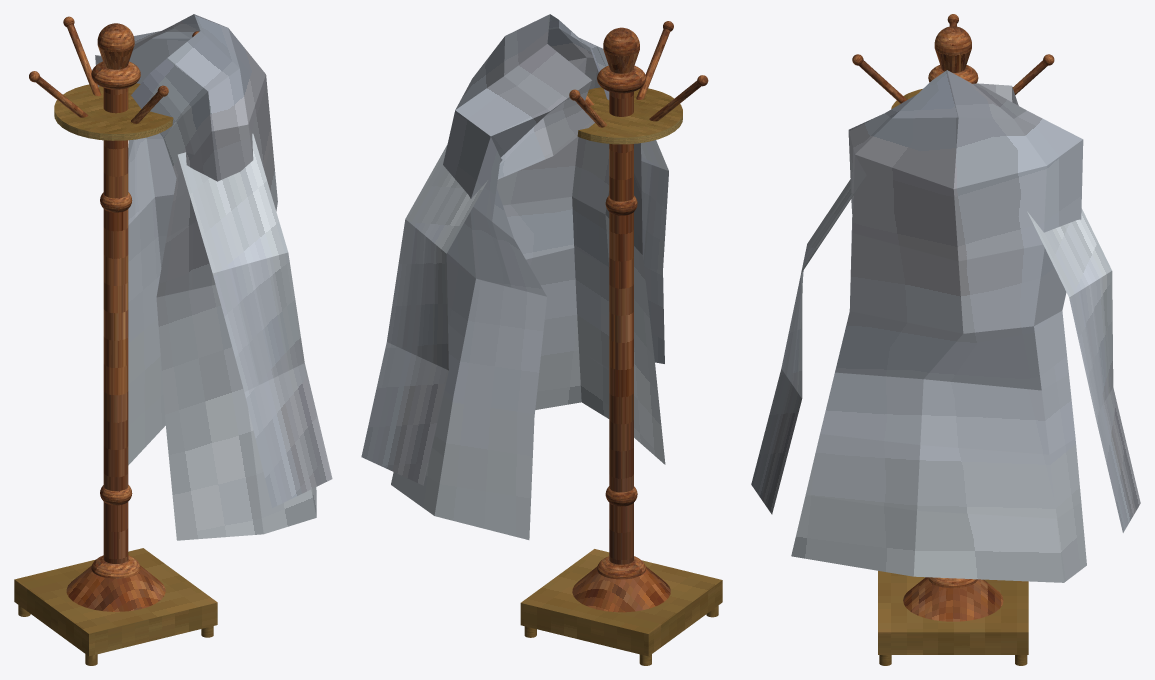
Rendered from coat_hanger.glb.
The picture shows the model from 3 angles, left to right: view 1: azimuth 30°, elevation 25°; view 2: azimuth 150°, elevation 25°; view 3: azimuth 270°, elevation 25°; orthographic projection.
Parts seen in each view (by area): view 1: Plane, Sphere.006, Cube, Cylinder.005, Cone.001; view 2: Plane, Sphere.006, Cube, Cylinder.005; view 3: Plane, Cube, Sphere.006.
Part boxes in pixels (box(x1,y1,x2,y2)): Plane: box(95, 14, 332, 540); Sphere.006: box(29, 16, 199, 611); Cube: box(14, 548, 217, 656); Cylinder.005: box(54, 83, 173, 140); Cone.001: box(97, 44, 134, 69); Plane: box(361, 14, 668, 539); Sphere.006: box(569, 21, 708, 612); Cube: box(520, 549, 722, 656); Cylinder.005: box(577, 87, 682, 144); Plane: box(751, 70, 1140, 582); Cube: box(878, 571, 1028, 654); Sphere.006: box(852, 14, 1054, 621).
Size of the model in its own units: 1.24 by 2.67 by 1.55.
Materials: 9 (9 with a texture image).
